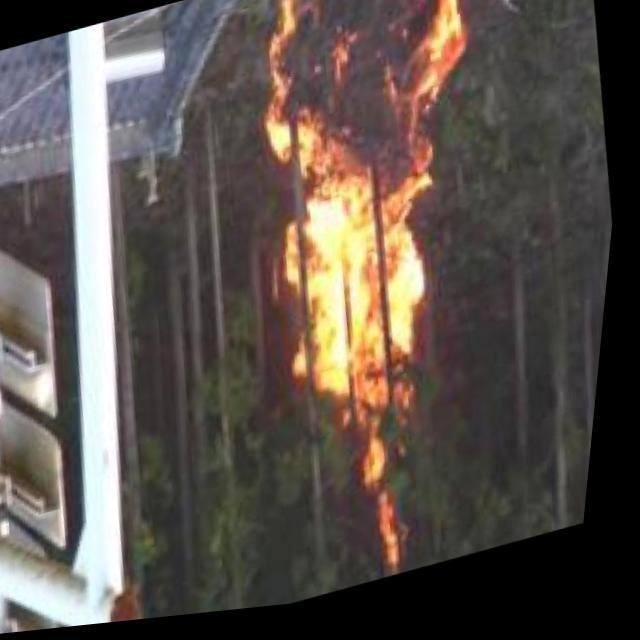fire: (204, 0, 564, 606)
